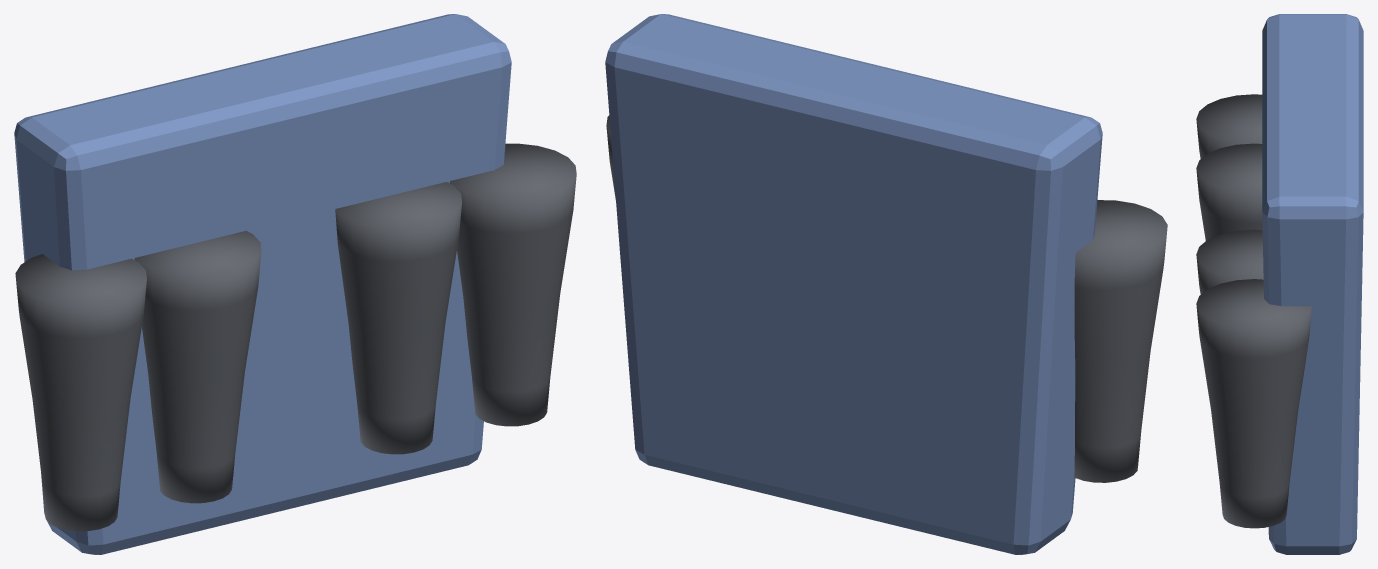
Rendered from back_fast.glb.
3 views of the same model, side by side, from view 1: azimuth 30°, elevation 25°; view 2: azimuth 150°, elevation 25°; view 3: azimuth 270°, elevation 25° (orthographic). The views are drawn at different scales.
Parts seen in each view (by area): view 1: pack, thruster.001, thruster.003, thruster.002, thruster; view 2: pack, thruster.001; view 3: pack, thruster.003, thruster, thruster.002, thruster.001.
Boxes of the visible parts, <box> form: pack: <box>14,14,511,554</box>; thruster.001: <box>15,254,146,531</box>; thruster.003: <box>449,143,576,426</box>; thruster.002: <box>335,182,461,454</box>; thruster: <box>134,230,261,503</box>; pack: <box>605,14,1102,554</box>; thruster.001: <box>1074,200,1167,482</box>; pack: <box>1262,14,1363,554</box>; thruster.003: <box>1196,279,1311,528</box>; thruster: <box>1196,143,1262,240</box>; thruster.002: <box>1196,229,1263,294</box>; thruster.001: <box>1196,94,1262,158</box>.
Bounding box in the file's own units: 3.23 × 2.38 × 0.9757.
